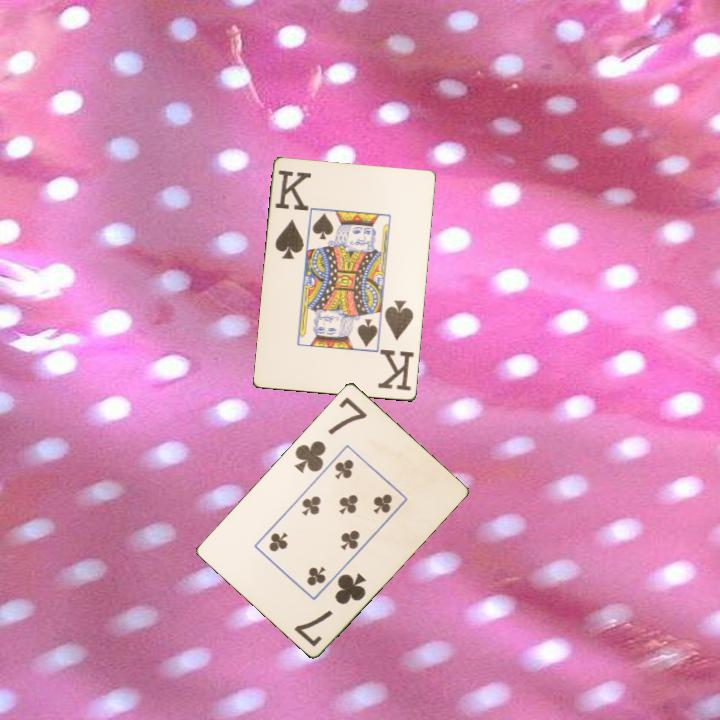7c: (291, 393, 370, 476), (290, 568, 369, 650)
Ks: (375, 297, 417, 394), (272, 167, 314, 263)
